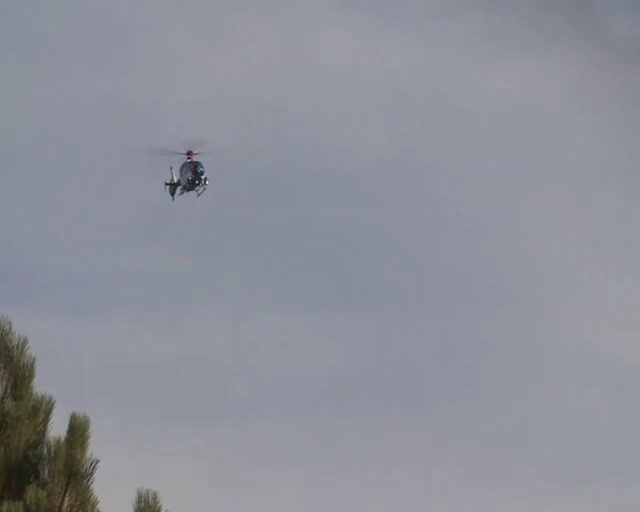HELICOPTER: (157, 147, 212, 200)
